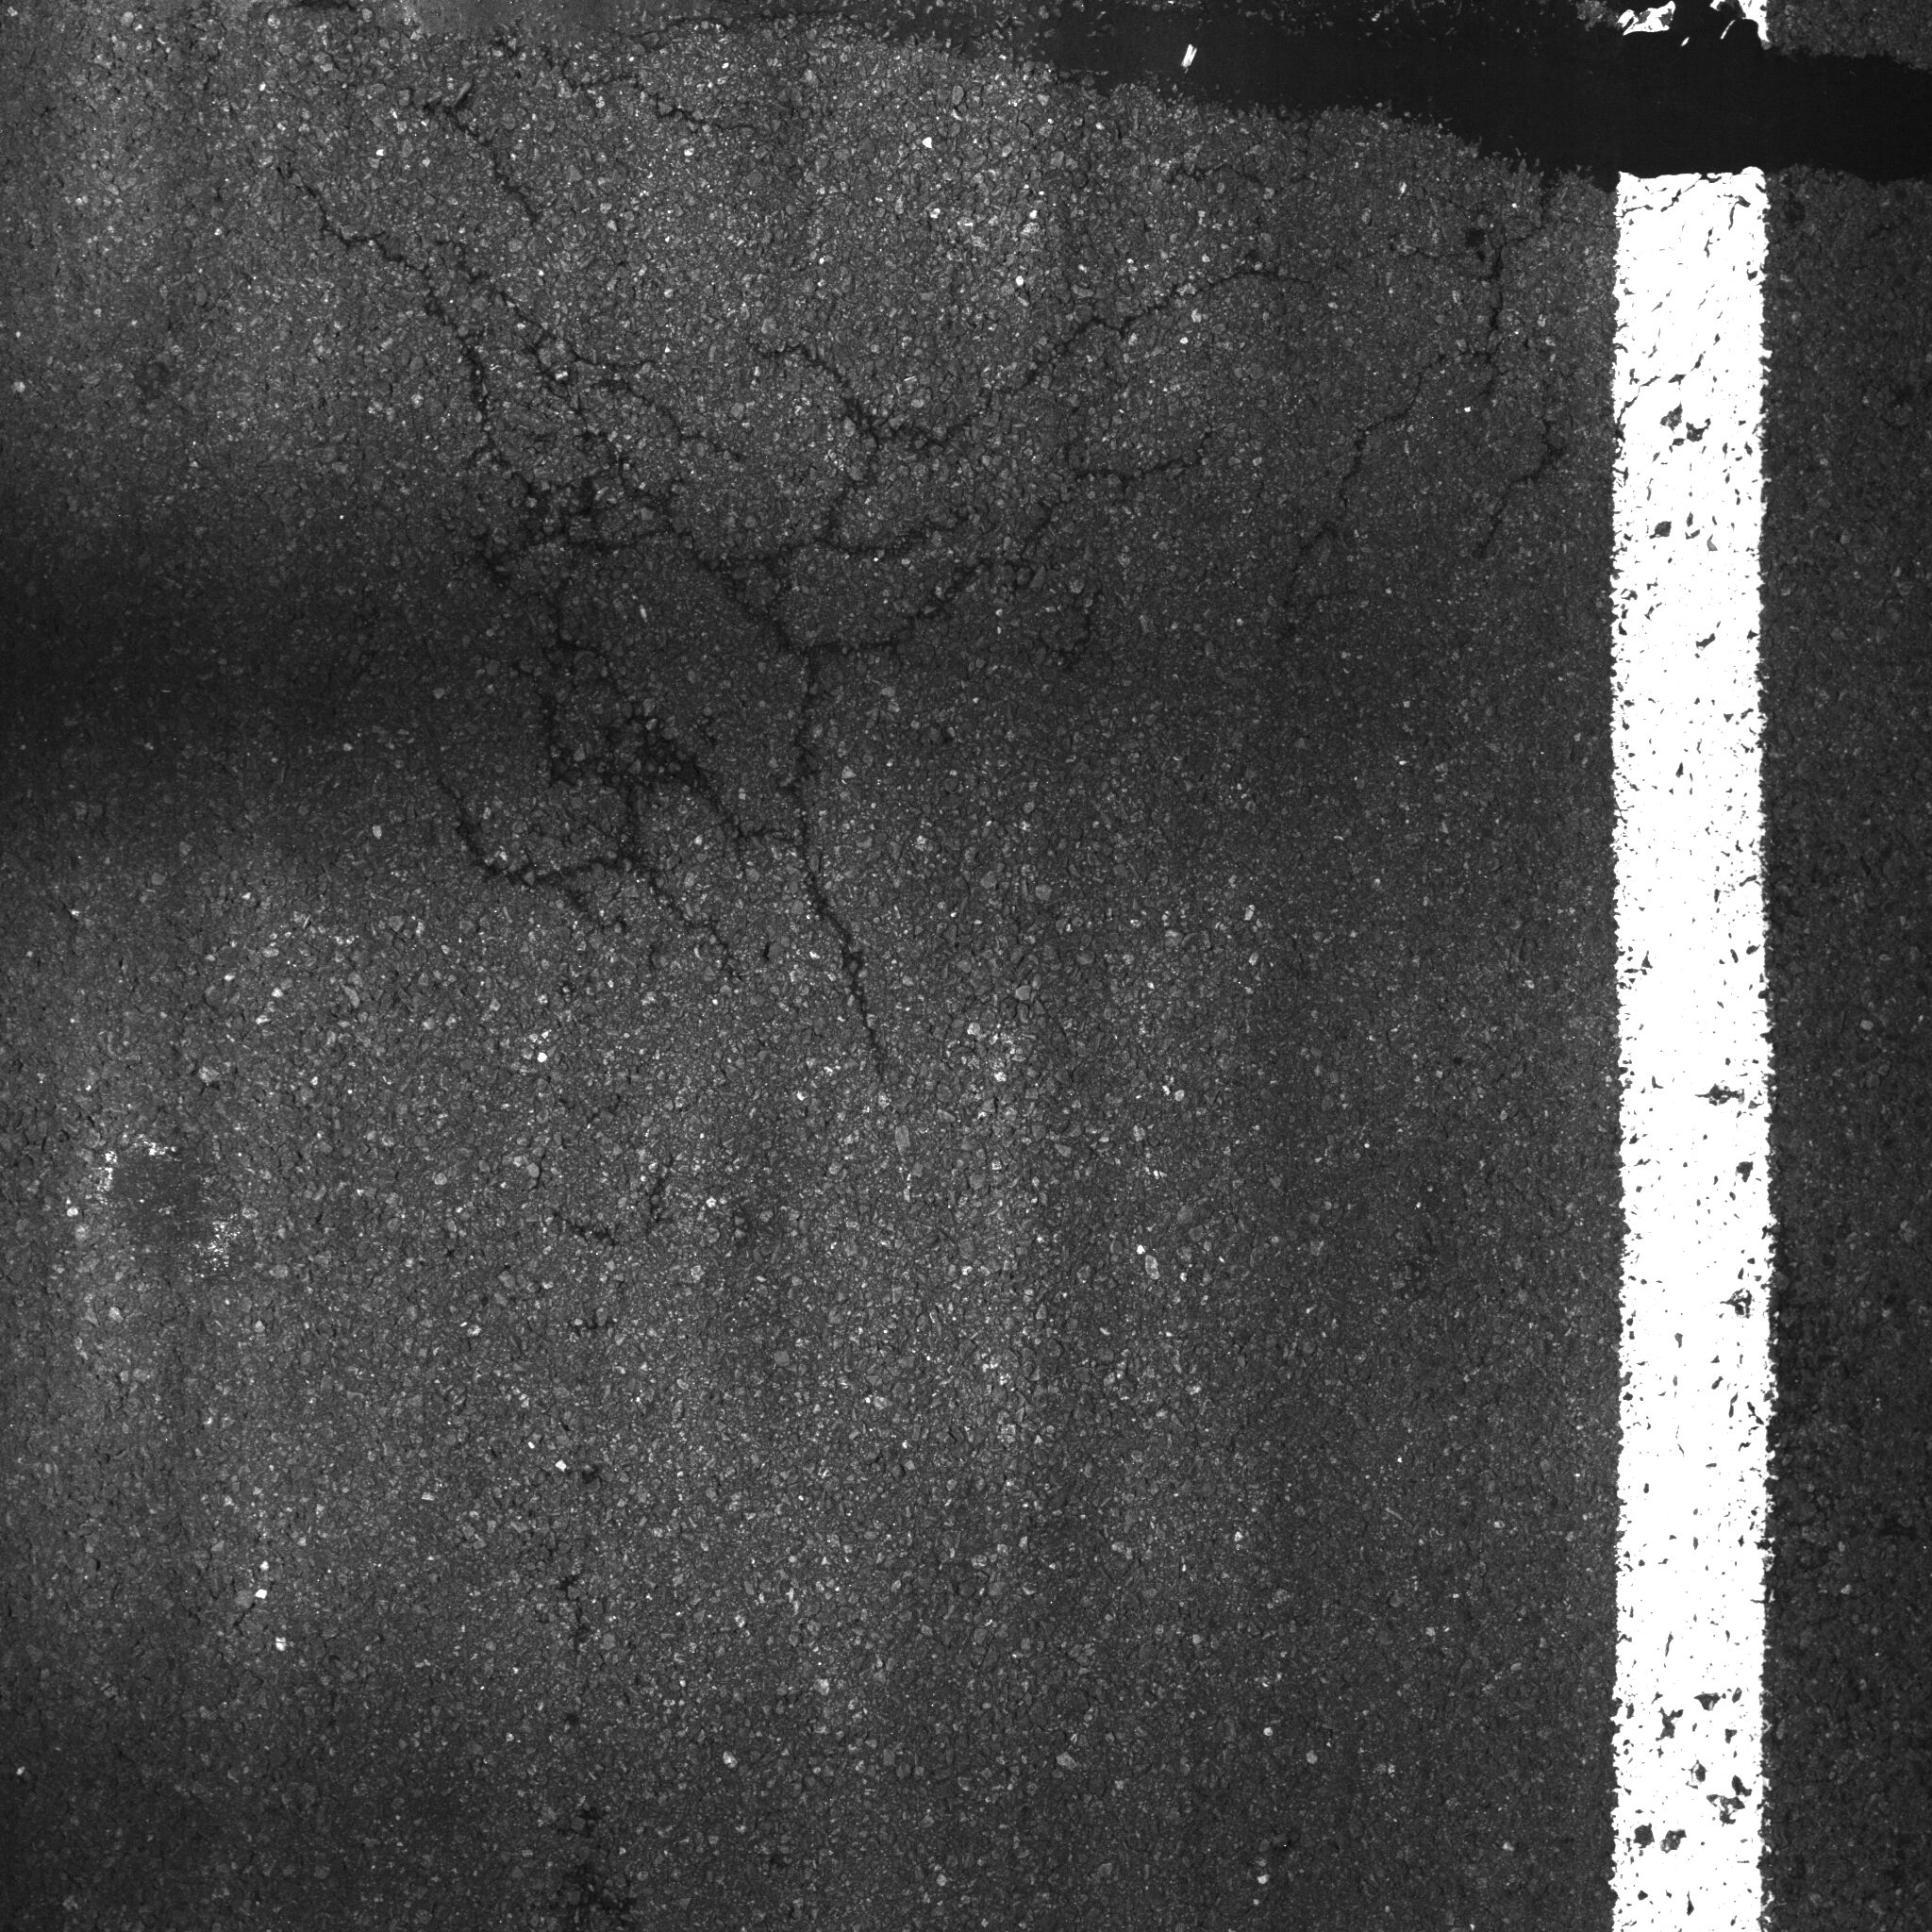alligator: (232, 27, 1598, 1007)
